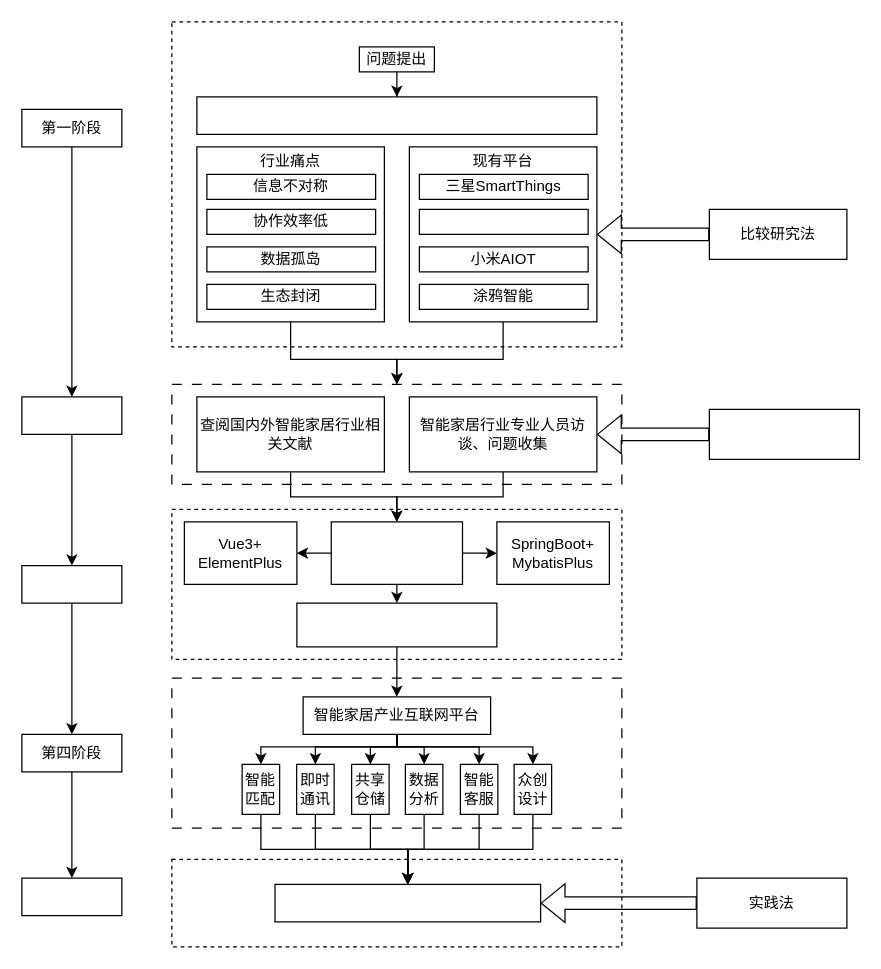
This 881x969 diagram has some shape labels left out. Here are the shapes that lost their labels. From the top down, the centre of each, then its label:
pixel 396 115: 目前智能家居产业存在的问题、国内外智能家具平台现状、可行性分析
pixel 503 221: Apple HomeKit
pixel 71 415: 第二阶段
pixel 783 433: 访谈法、文献研究法
pixel 396 552: 智能家居产业互联网平台原型构建
pixel 71 583: 第三阶段
pixel 396 624: 供需匹配技术
pixel 71 896: 第五阶段
pixel 407 902: 智能家居产业互联网平台的设计与实现
